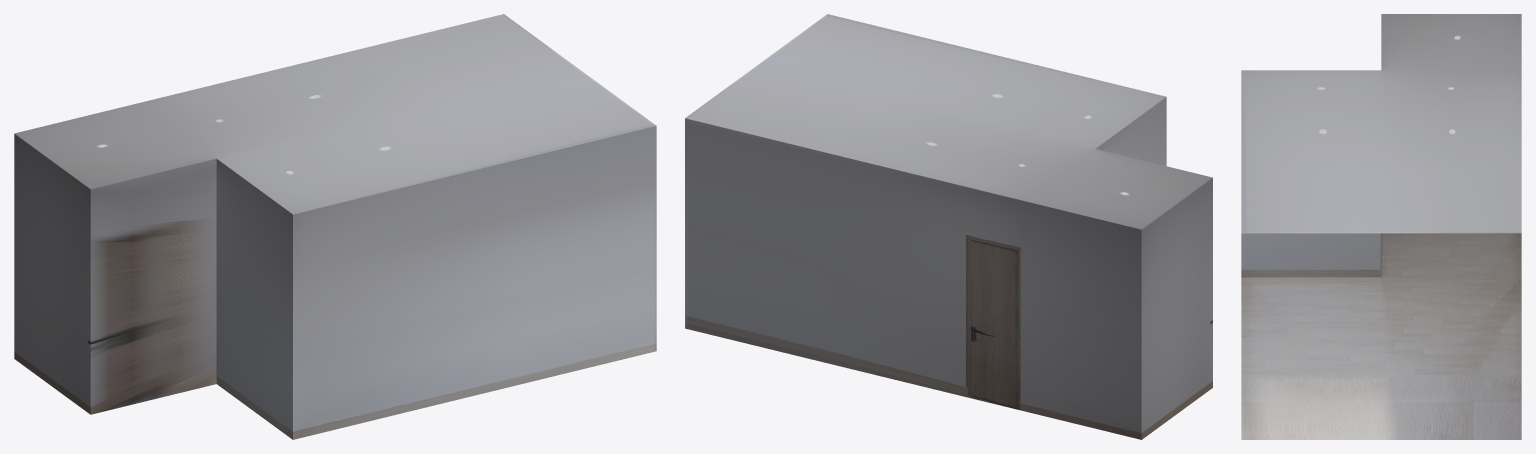
File: ROOM_008.glb
3 renders of one model, left to right at view 1: azimuth 30°, elevation 25°; view 2: azimuth 150°, elevation 25°; view 3: azimuth 270°, elevation 25°, orthographic. The views are drawn at different scales.
Parts seen in each view (by area): view 1: wall_left_01, roof, wall_left_02, wall_bottom_02, wall_bottom_01; view 2: wall_right_01, roof, wall_bottom_02, wall_bottom_01; view 3: roof, floor, wall_bottom_01.
Part boxes in pixels (bbox=[...]): wall_left_01: bbox=[293, 126, 656, 439]; roof: bbox=[14, 14, 656, 214]; wall_left_02: bbox=[90, 158, 216, 414]; wall_bottom_02: bbox=[14, 134, 90, 414]; wall_bottom_01: bbox=[216, 159, 292, 439]; wall_right_01: bbox=[685, 118, 1141, 439]; roof: bbox=[685, 14, 1212, 229]; wall_bottom_02: bbox=[1141, 178, 1212, 439]; wall_bottom_01: bbox=[1096, 97, 1166, 165]; roof: bbox=[1241, 14, 1521, 233]; floor: bbox=[1241, 233, 1521, 439]; wall_bottom_01: bbox=[1241, 233, 1381, 277].
Size of the model in its own units: 6.48 by 2.85 by 3.5.
Materials: 1 (1 with a texture image).
